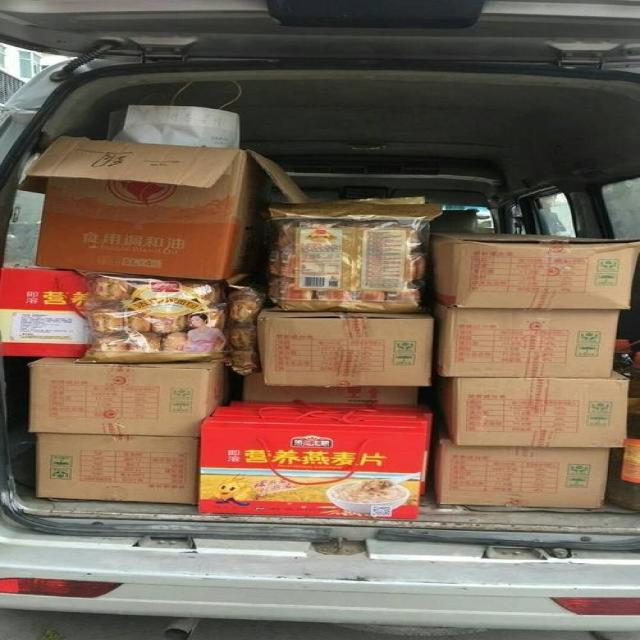box: (15, 136, 311, 280), (427, 232, 639, 309), (29, 357, 227, 437), (430, 298, 621, 378), (438, 369, 629, 447), (432, 429, 610, 509), (257, 309, 434, 387), (37, 432, 199, 504), (0, 267, 91, 357), (244, 373, 418, 405)
